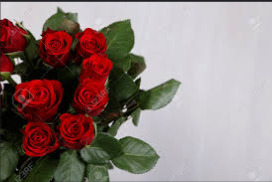RedRose: (9, 75, 64, 119), (21, 118, 59, 156), (0, 15, 36, 55), (60, 111, 99, 147), (74, 77, 109, 112), (38, 28, 70, 64), (82, 54, 118, 80), (81, 29, 111, 55)
